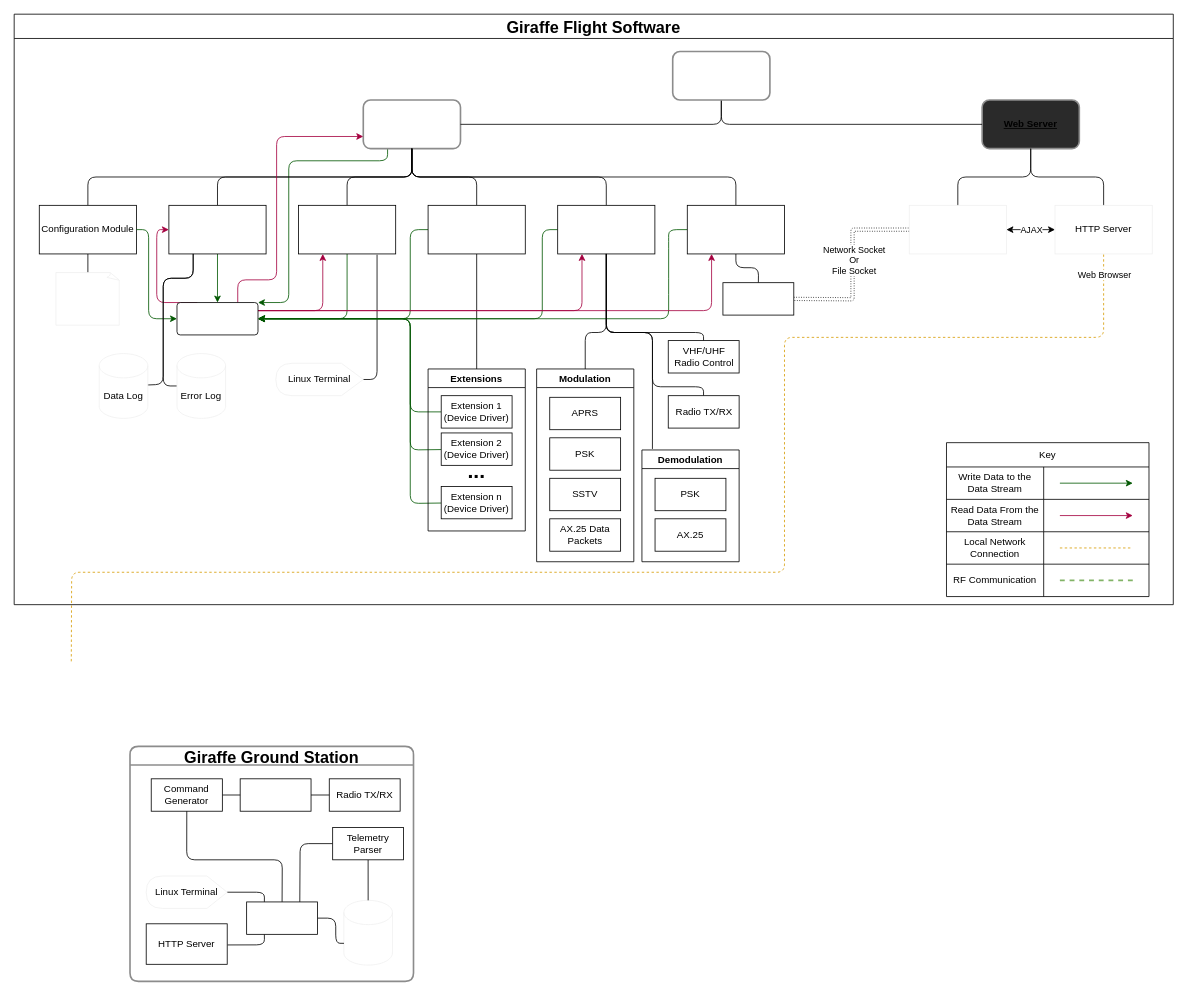
This 1187x996 diagram has some shape labels left out. Each missing label, with the centre of its shape:
"Configuration File" goes at (87,298).
"Console Module" goes at (347,229).
"Data Module" goes at (217,229).
"Data Stream" goes at (217,318).
"Extension Module" goes at (476,229).
"Flight Runner" goes at (411,124).
"GFS Data API" goes at (957,229).
"Giraffe Ground Software" goes at (282,917).
"Modulation and Demodulation" goes at (275,794).
"Server Module" goes at (735,229).
"Socket File or Network Socket" goes at (758,298).
"Telemetry Log" goes at (367,932).
"Telemetry Module" goes at (606,229).
"Watchdog Service" goes at (720,75).
